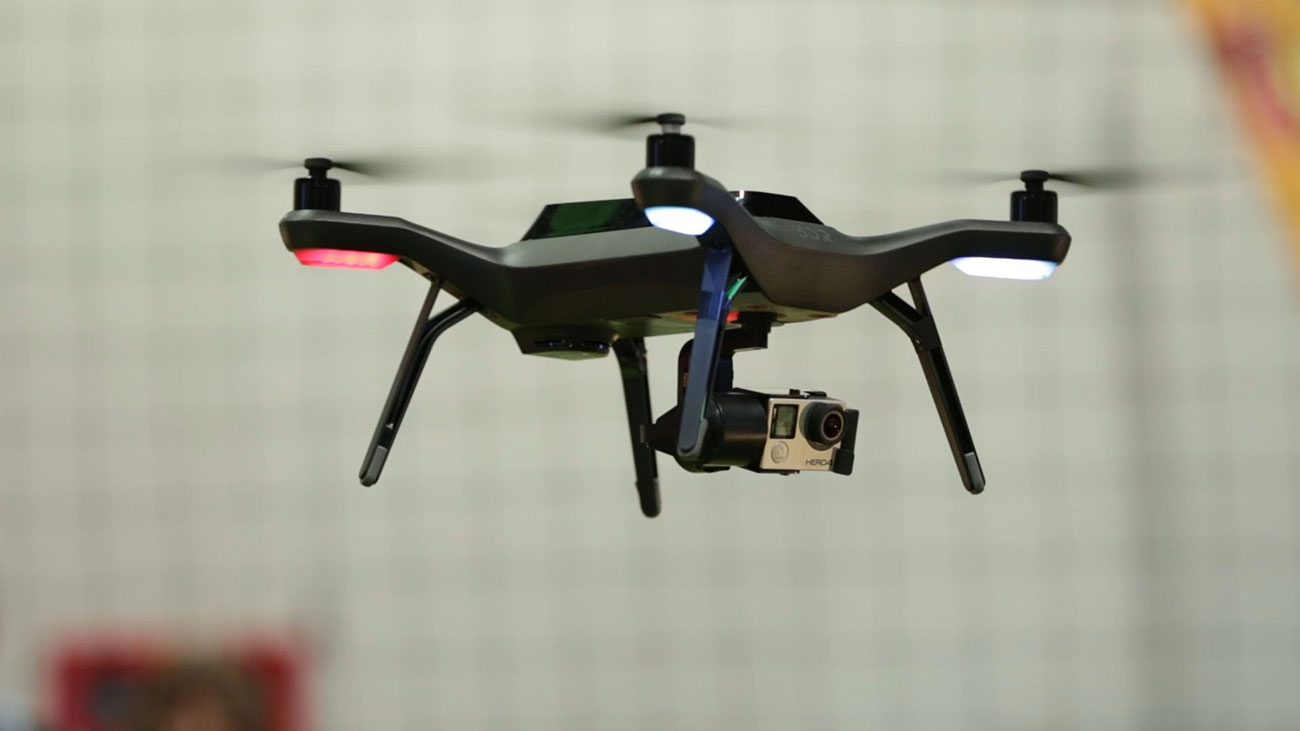drone: (202, 102, 1258, 525)
